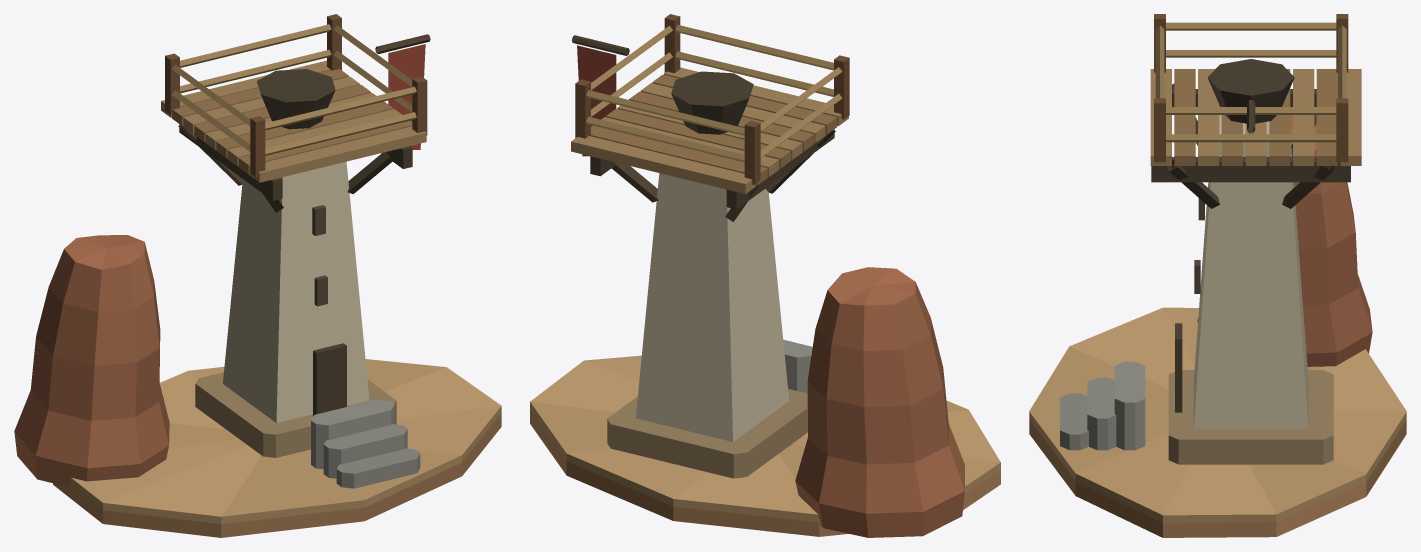
3 renders of one model, left to right at view 1: azimuth 30°, elevation 25°; view 2: azimuth 150°, elevation 25°; view 3: azimuth 270°, elevation 25°, orthographic. The views are drawn at different scales.
Visible parts, largest first — view 1: S08_孤塔烽燧; view 2: S08_孤塔烽燧; view 3: S08_孤塔烽燧.
Boxes of the visible parts, box(x1,y1,x2,y2) form: S08_孤塔烽燧: box(14, 14, 501, 537); S08_孤塔烽燧: box(530, 14, 1000, 537); S08_孤塔烽燧: box(1029, 14, 1406, 537).
Bounding box in the file's own units: 4.1 × 3.49 × 3.03.
